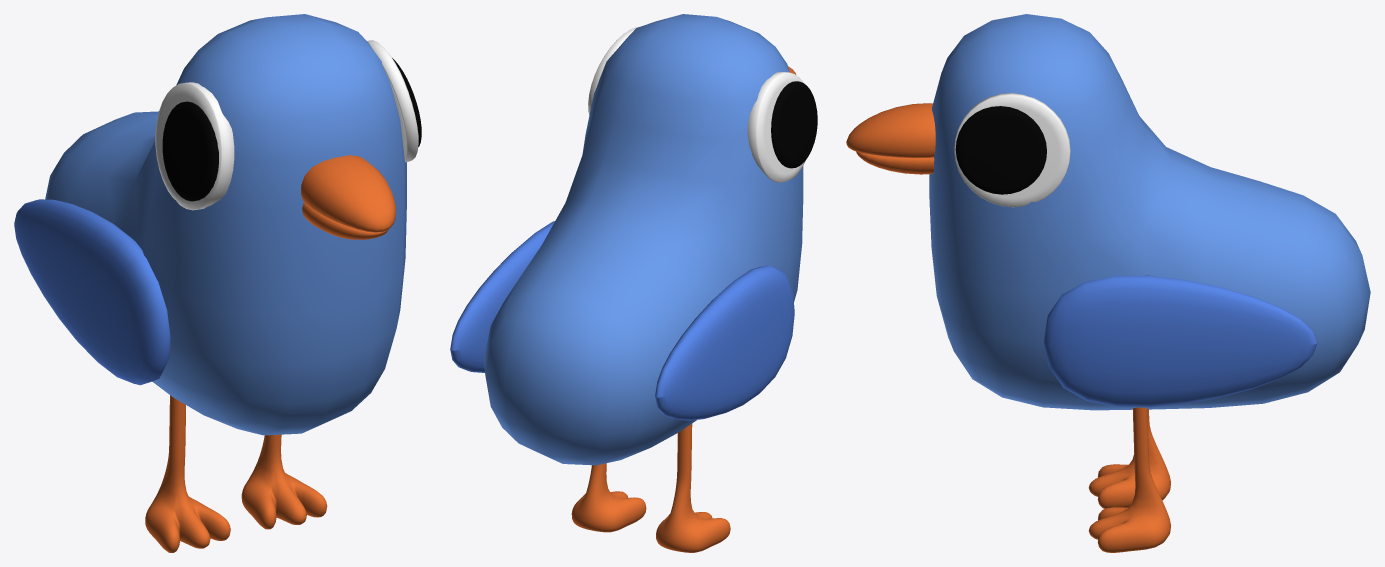
Rendered from coba3.fbx.
The picture shows the model from 3 angles, left to right: view 1: azimuth 30°, elevation 25°; view 2: azimuth 150°, elevation 25°; view 3: azimuth 270°, elevation 25°; orthographic projection. The views are drawn at different scales.
Parts seen in each view (by area): view 1: Cube_0, Cube.001_5, Cube.003_7, Cube.005_9, Cylinder.001_2, Cube.006_10, Cylinder_1, Cylinder.003_4, Cube.004_8; view 2: Cube_0, Cube.001_5, Cube.002_6, Cube.005_9, Cylinder.001_2, Cube.006_10, Cylinder_1, Cylinder.003_4; view 3: Cube_0, Cube.002_6, Cylinder.002_3, Cube.006_10, Cylinder.003_4, Cube.003_7, Cube.005_9, Cube.004_8.
Part boxes in pixels (x1,y1,x2,y2): Cube_0: (45, 14, 406, 435); Cube.001_5: (14, 199, 170, 385); Cube.003_7: (301, 155, 395, 232); Cube.005_9: (145, 395, 230, 552); Cylinder.001_2: (162, 101, 218, 201); Cube.006_10: (241, 434, 327, 529); Cylinder_1: (155, 82, 234, 210); Cylinder.003_4: (367, 40, 418, 162); Cube.004_8: (302, 202, 388, 239); Cube_0: (484, 14, 803, 465); Cube.001_5: (655, 265, 794, 420); Cube.002_6: (450, 221, 554, 372); Cube.005_9: (656, 423, 730, 552); Cylinder.001_2: (771, 81, 817, 168); Cube.006_10: (571, 463, 646, 532); Cylinder_1: (747, 72, 805, 182); Cylinder.003_4: (588, 26, 639, 114); Cube_0: (929, 14, 1370, 410); Cube.002_6: (1043, 275, 1317, 407); Cylinder.002_3: (955, 106, 1046, 194); Cube.006_10: (1088, 407, 1170, 552); Cylinder.003_4: (954, 93, 1070, 207); Cube.003_7: (846, 103, 935, 158); Cube.005_9: (1088, 409, 1170, 508); Cube.004_8: (856, 151, 934, 174).
Size of the model in its own units: 227 by 443 by 427.
